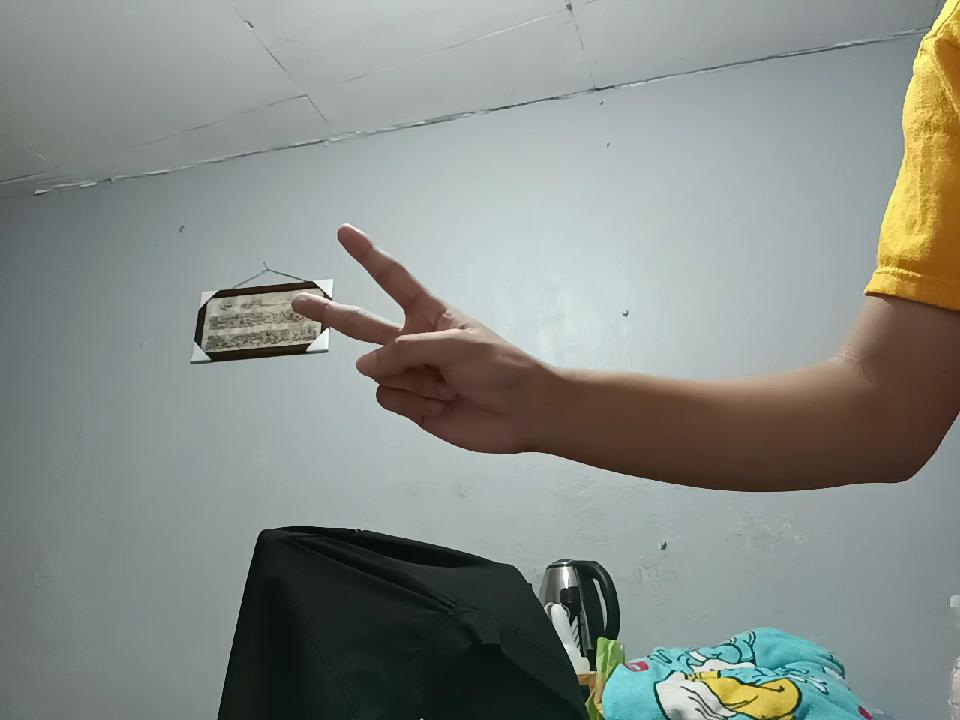scissors: (298, 226, 514, 420)
